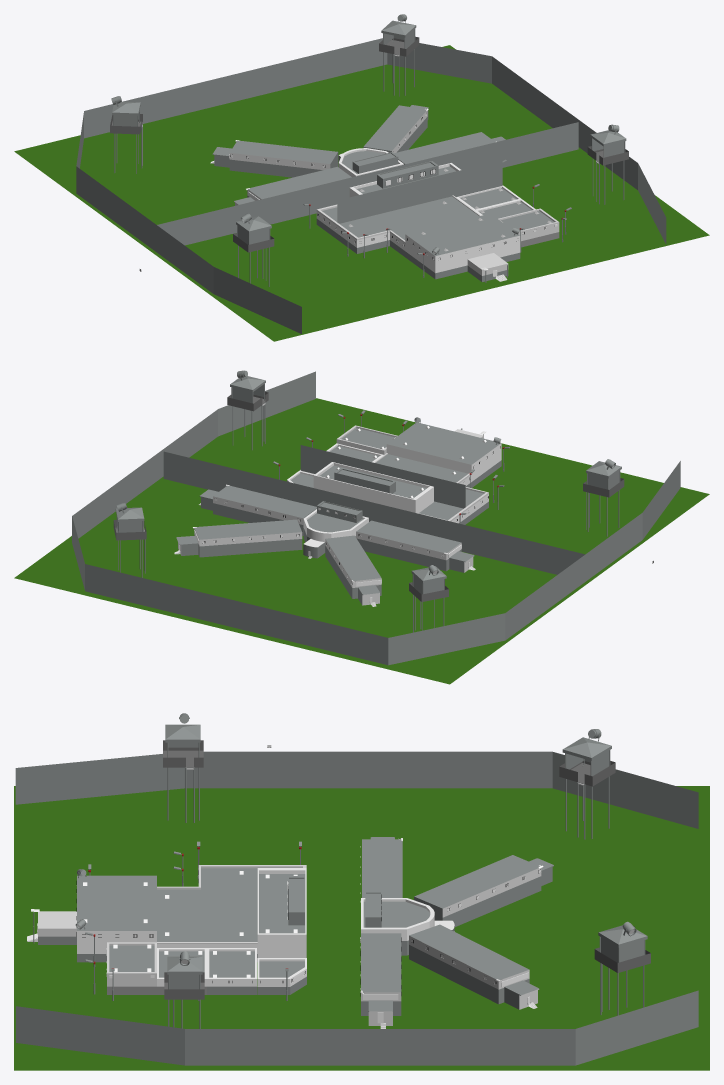
Rendered from jail.glb.
3 renders of one model, top to bottom at view 1: azimuth 30°, elevation 25°; view 2: azimuth 150°, elevation 25°; view 3: azimuth 270°, elevation 25°, orthographic. The views are drawn at different scales.
Visible parts, largest first — view 1: Plane, Plane.001, Cube.007, Plane.004, Plane.002, Cube.013, Cube.012, Cube.001, Cube.003, Cube.002, Cube.010, Cube.005 (+4 smaller); view 2: Plane, Plane.001, Plane.004, Cube.007, Cube.012, Cube.001, Cube.002, Plane.002, Cube.013, Cube, Cube.003, Cube.010 (+2 smaller); view 3: Plane, Plane.001, Cube.007, Cube.012, Cube.013, Cube.002, Cube.003, Cube.001, Cube, Cube.005, Cube.006, Cube.011 (+12 smaller).
Part boxes in pixels (x1=…): Plane: x1=14, y1=45, x2=709, y2=341; Plane.001: x1=76, y1=38, x2=666, y2=333; Cube.007: x1=316, y1=163, x2=520, y2=279; Plane.004: x1=157, y1=122, x2=578, y2=245; Plane.002: x1=337, y1=160, x2=502, y2=223; Cube.013: x1=212, y1=140, x2=338, y2=177; Cube.012: x1=363, y1=105, x2=428, y2=153; Cube.001: x1=234, y1=166, x2=351, y2=205; Cube.003: x1=498, y1=208, x2=559, y2=247; Cube.002: x1=394, y1=132, x2=505, y2=164; Cube.010: x1=377, y1=161, x2=438, y2=188; Cube.005: x1=456, y1=185, x2=521, y2=210; Plane: x1=14, y1=398, x2=709, y2=684; Plane.001: x1=72, y1=371, x2=680, y2=665; Plane.004: x1=163, y1=451, x2=584, y2=574; Cube.007: x1=313, y1=422, x2=501, y2=524; Cube.012: x1=176, y1=519, x2=302, y2=557; Cube.001: x1=356, y1=520, x2=474, y2=572; Cube.002: x1=199, y1=485, x2=316, y2=535; Plane.002: x1=300, y1=445, x2=465, y2=508; Cube.013: x1=325, y1=535, x2=381, y2=605; Cube: x1=303, y1=509, x2=368, y2=558; Cube.003: x1=336, y1=425, x2=397, y2=454; Cube.010: x1=334, y1=468, x2=395, y2=493; Plane: x1=14, y1=786, x2=709, y2=1070; Plane.001: x1=15, y1=751, x2=698, y2=1065; Cube.007: x1=77, y1=868, x2=306, y2=962; Cube.012: x1=409, y1=924, x2=539, y2=1009; Cube.013: x1=414, y1=855, x2=553, y2=926; Cube.002: x1=361, y1=933, x2=401, y2=1025; Cube.003: x1=107, y1=942, x2=156, y2=994; Cube.001: x1=362, y1=837, x2=402, y2=897; Cube: x1=361, y1=898, x2=454, y2=955; Cube.005: x1=207, y1=948, x2=256, y2=994; Cube.006: x1=257, y1=958, x2=306, y2=994; Cube.011: x1=38, y1=911, x2=76, y2=944.
Bounding box in the file's own units: 36.17 × 5.3 × 34.35.
